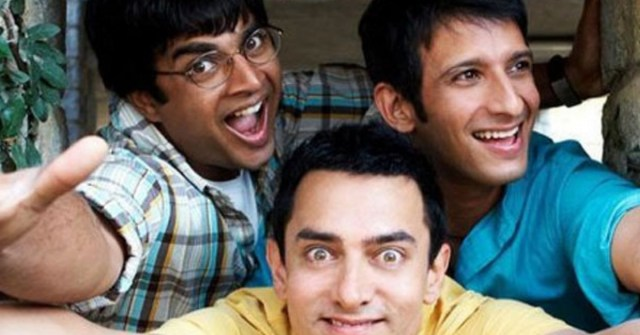bare: (424, 89, 552, 181), (175, 83, 299, 168), (276, 269, 429, 335)
